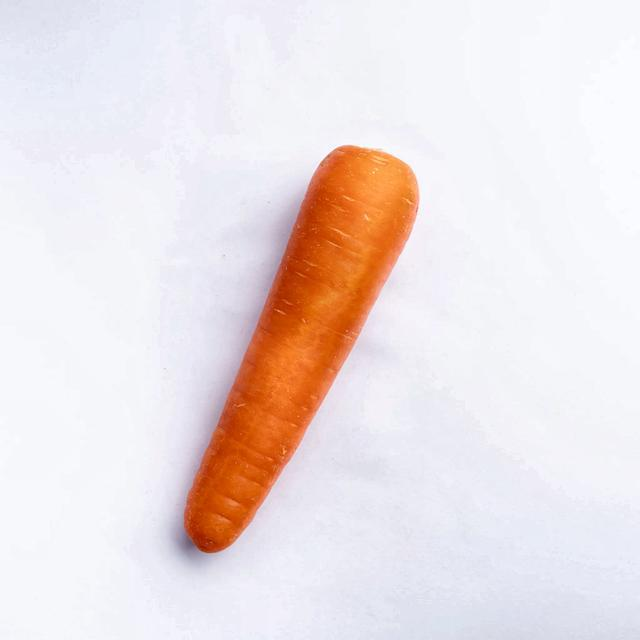carrot: (185, 146, 419, 552)
